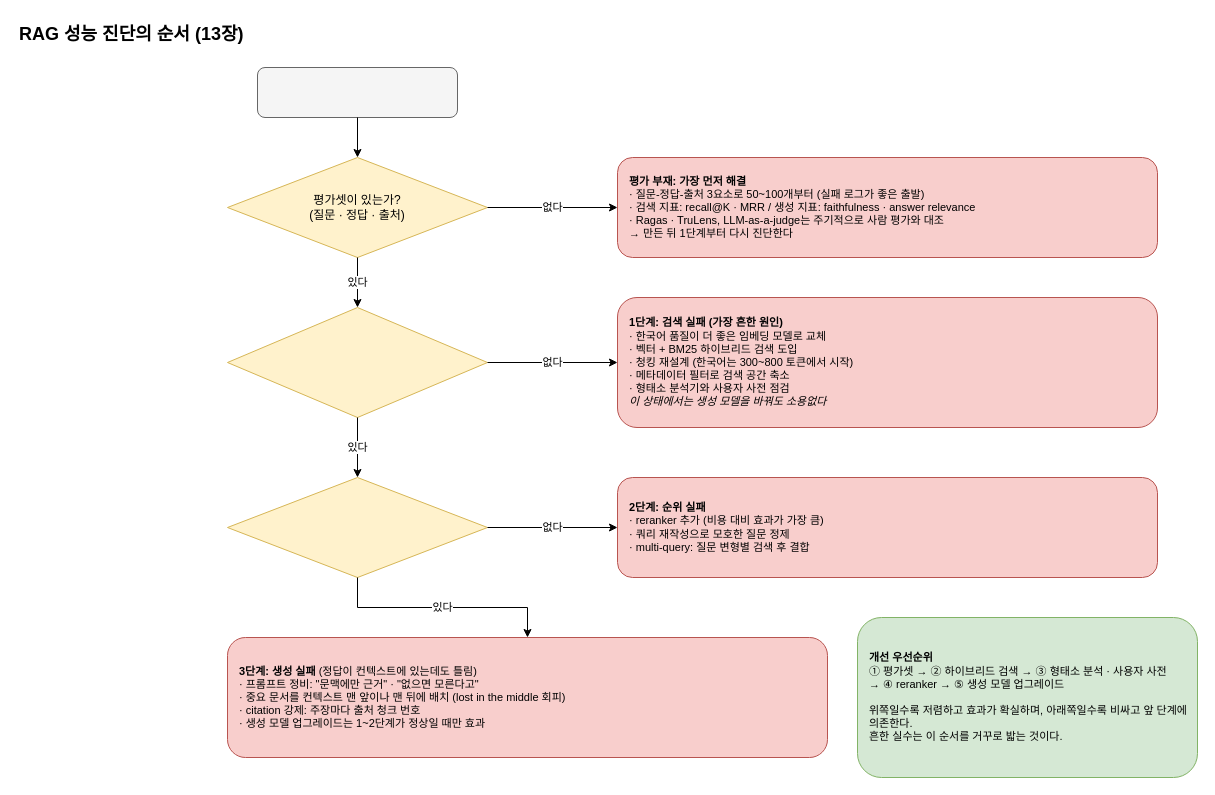
This 1215x795 diagram has some shape labels left out. The centre of each missing label's shape, as x and y in pixels:
"LLM에 전달되는 top-3 안에 있는가?" goes at (x=357, y=527).
"답변이 이상하다" goes at (x=357, y=92).
"정답 청크가 검색 top-K(예: 20)에 있는가?" goes at (x=357, y=362).
